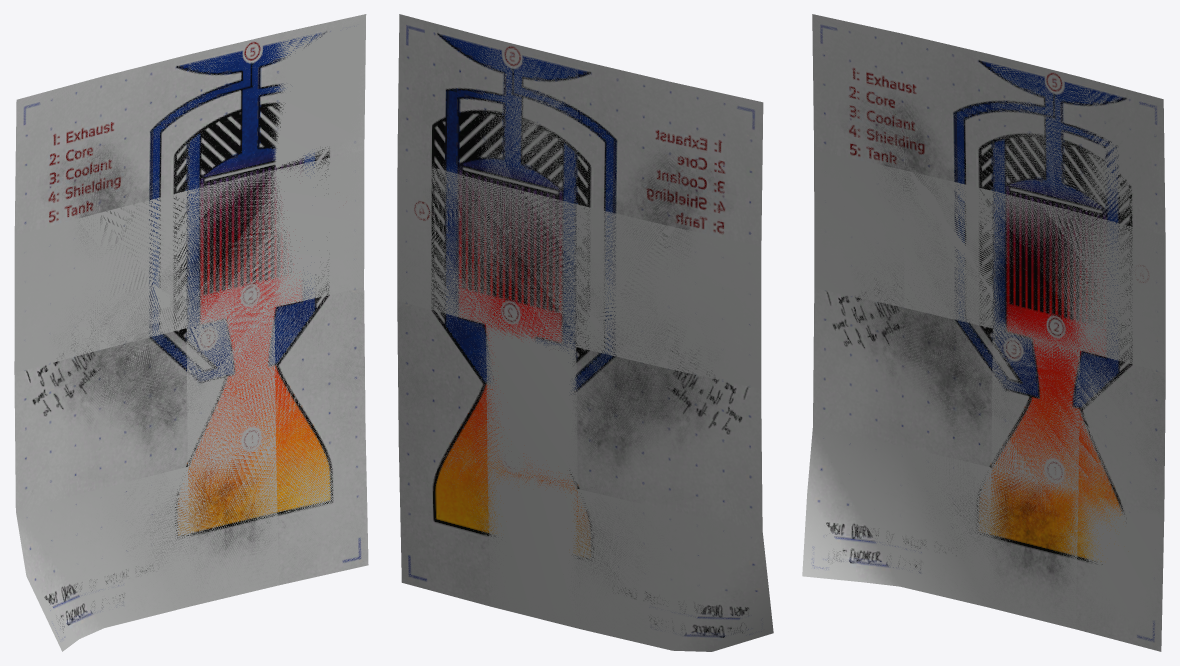
Rendered from rocket_design_01.dae.
3 renders of one model, left to right at view 1: azimuth 30°, elevation 25°; view 2: azimuth 150°, elevation 25°; view 3: azimuth 330°, elevation 25°, orthographic. The views are drawn at different scales.
Parts seen in each view (by area): view 1: 01; view 2: 01; view 3: 01.
Part boxes in pixels (x1=…): 01: x1=14, y1=14, x2=368, y2=651; 01: x1=397, y1=14, x2=773, y2=651; 01: x1=802, y1=14, x2=1165, y2=651.
Size of the model in its own units: 0.9995 by 1.5 by 0.1631.
